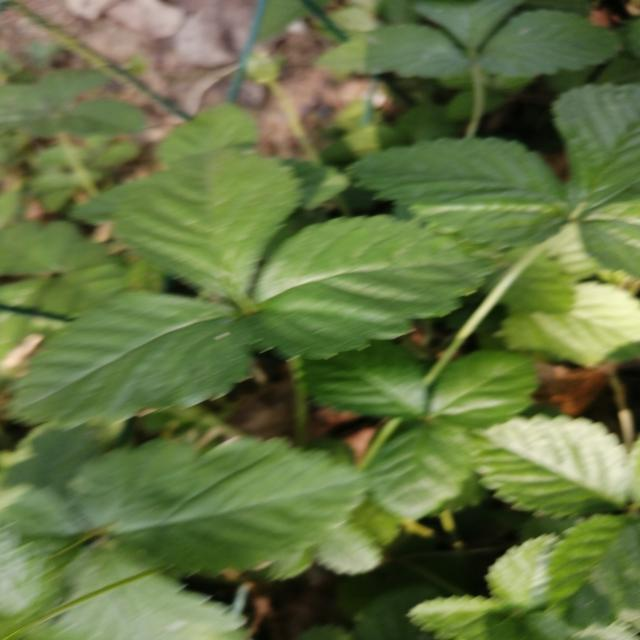Mock_strawberry: (5, 147, 446, 410)
